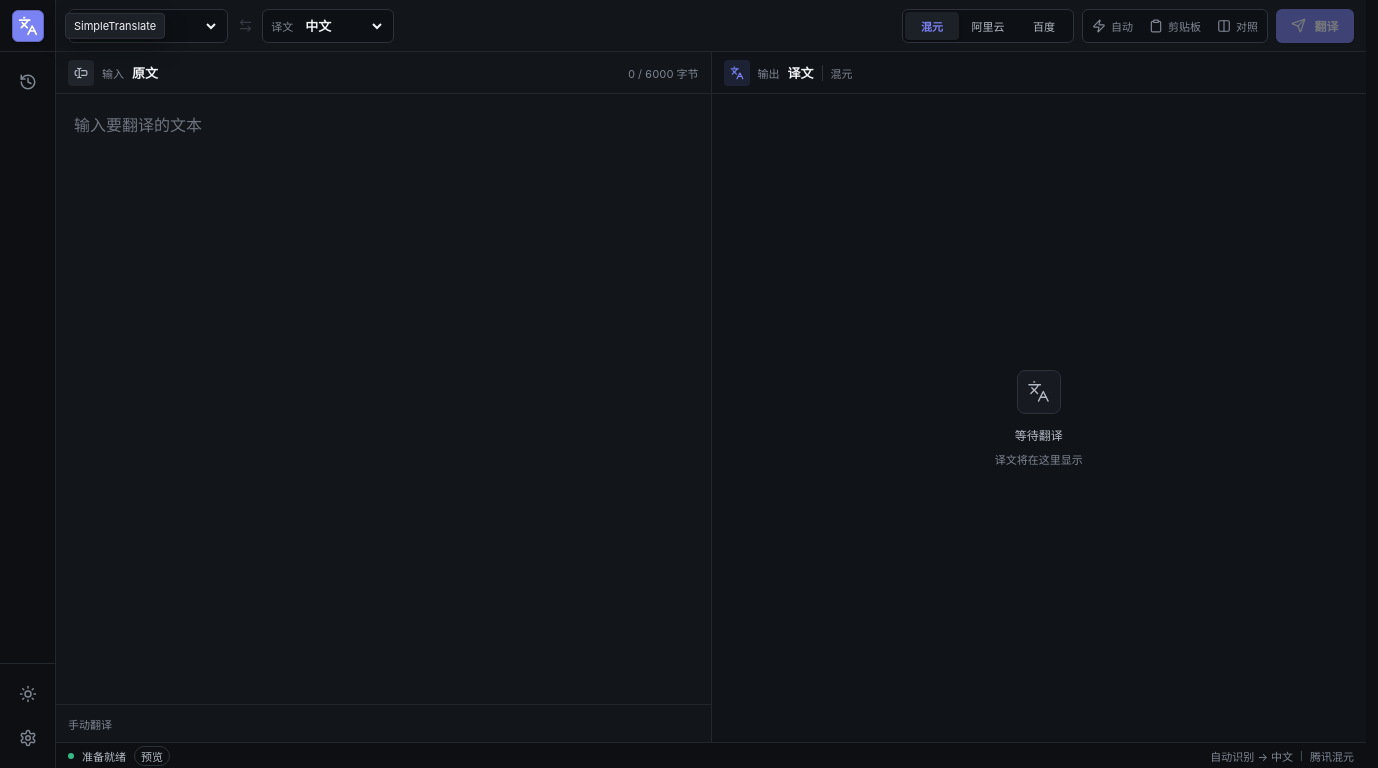
standalone app › clears the translation together with the source text
Type "hello" into the text box named "原文" at x=383, y=399, box [56, 94, 710, 704]
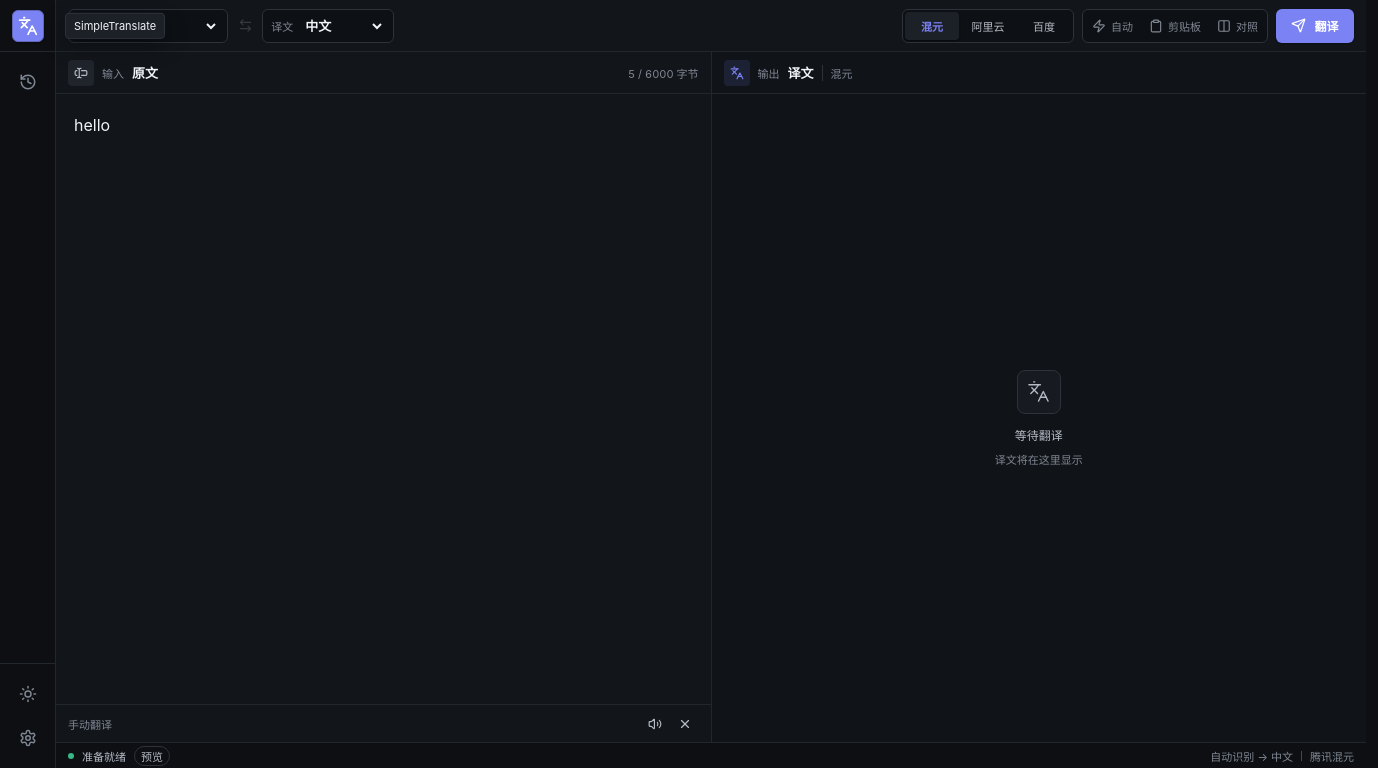
Click the button "翻译" at x=1315, y=26, box [1276, 8, 1354, 42]
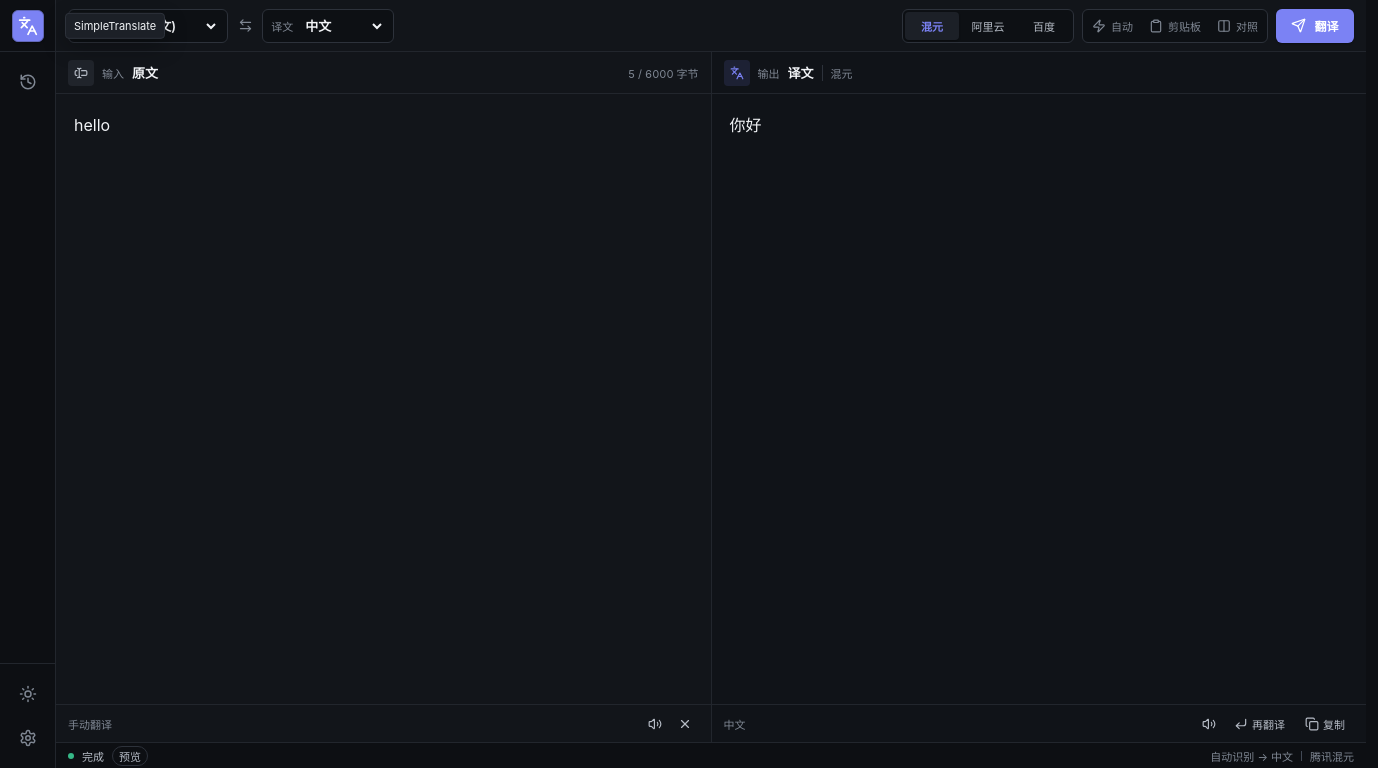
Now the text box named "译文" holds "你好", box [712, 94, 1366, 704]
Click the button named "清空原文" at x=684, y=724, box [670, 710, 698, 738]
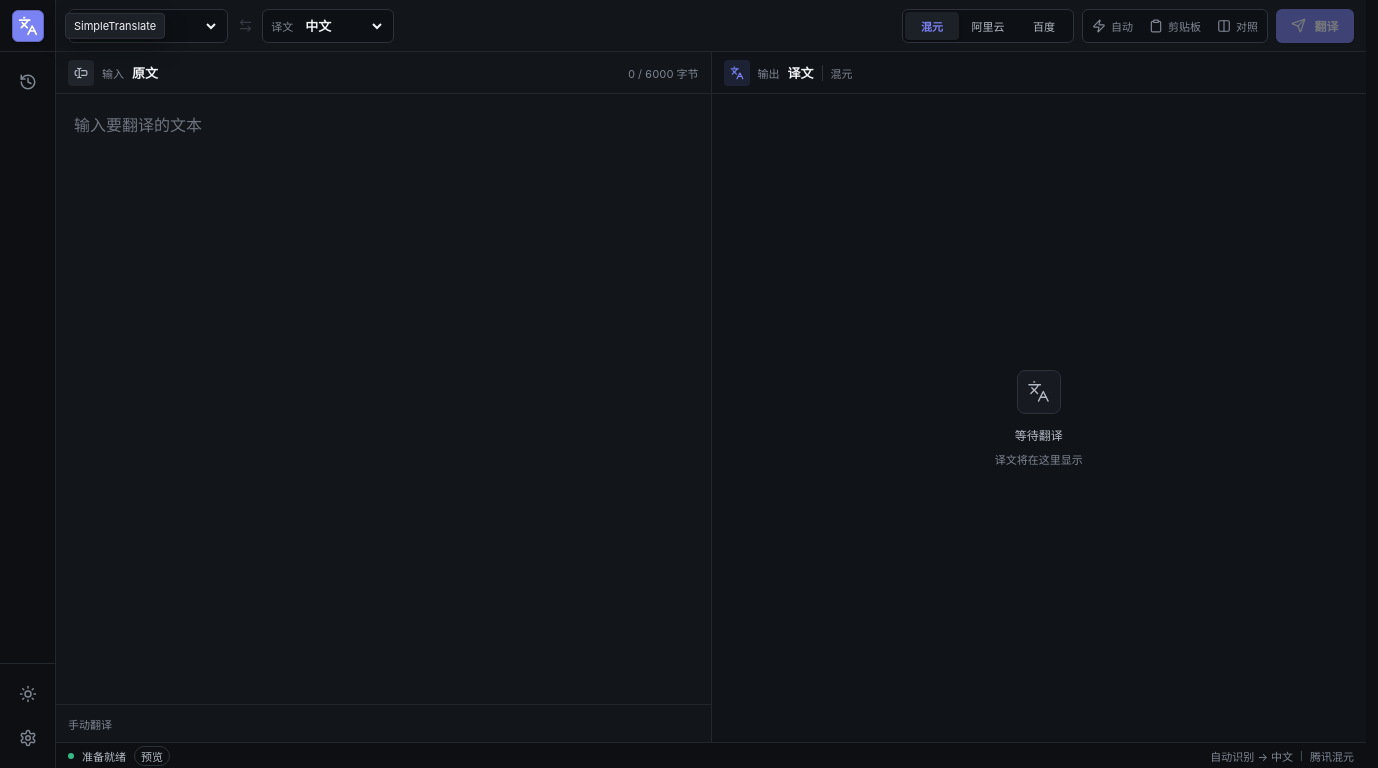
Now the text box named "原文" is empty, box [56, 94, 710, 704]
Now the text "等待翻译" is shown, box [1015, 426, 1063, 442]
